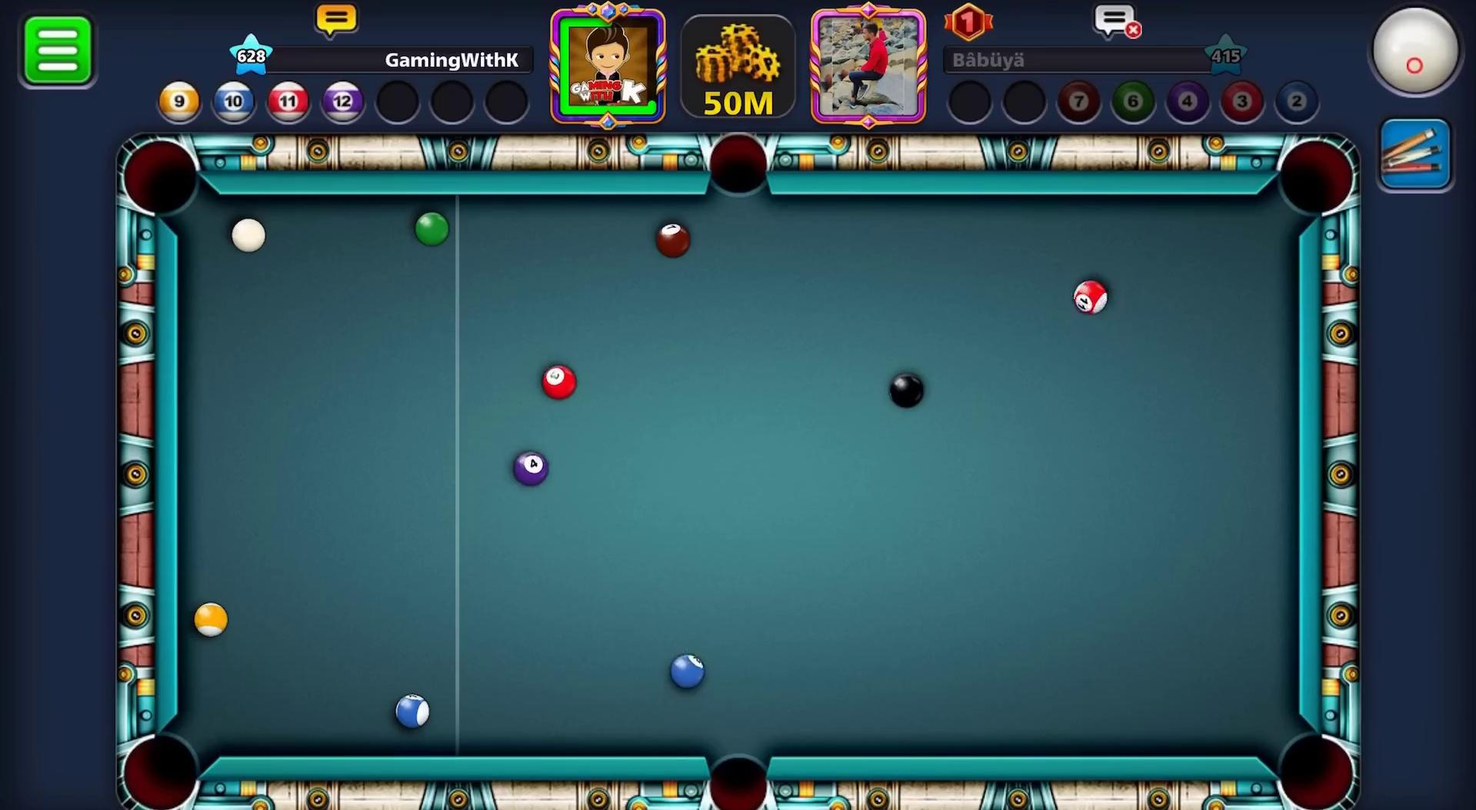Ball: (532, 355, 581, 409), (505, 442, 555, 493), (881, 368, 930, 413), (388, 690, 435, 735), (647, 218, 695, 262), (666, 652, 710, 698), (189, 599, 232, 642), (408, 210, 450, 249), (1072, 277, 1110, 318)
Hole: (1252, 705, 1373, 809), (110, 122, 218, 234), (102, 718, 220, 809), (1266, 126, 1364, 228), (700, 121, 786, 218), (690, 739, 785, 809)
Play_Area: (178, 195, 1297, 756)
Spin: (1361, 0, 1475, 112)
White: (225, 215, 272, 256)
